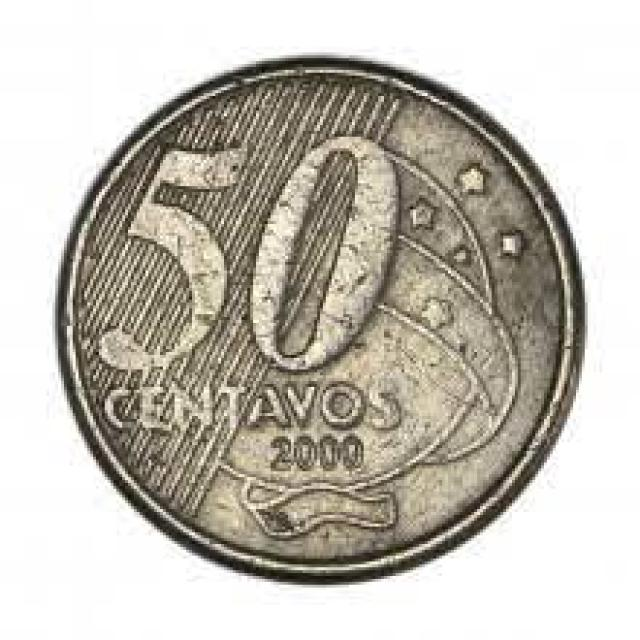50 cent: (58, 54, 586, 581)
